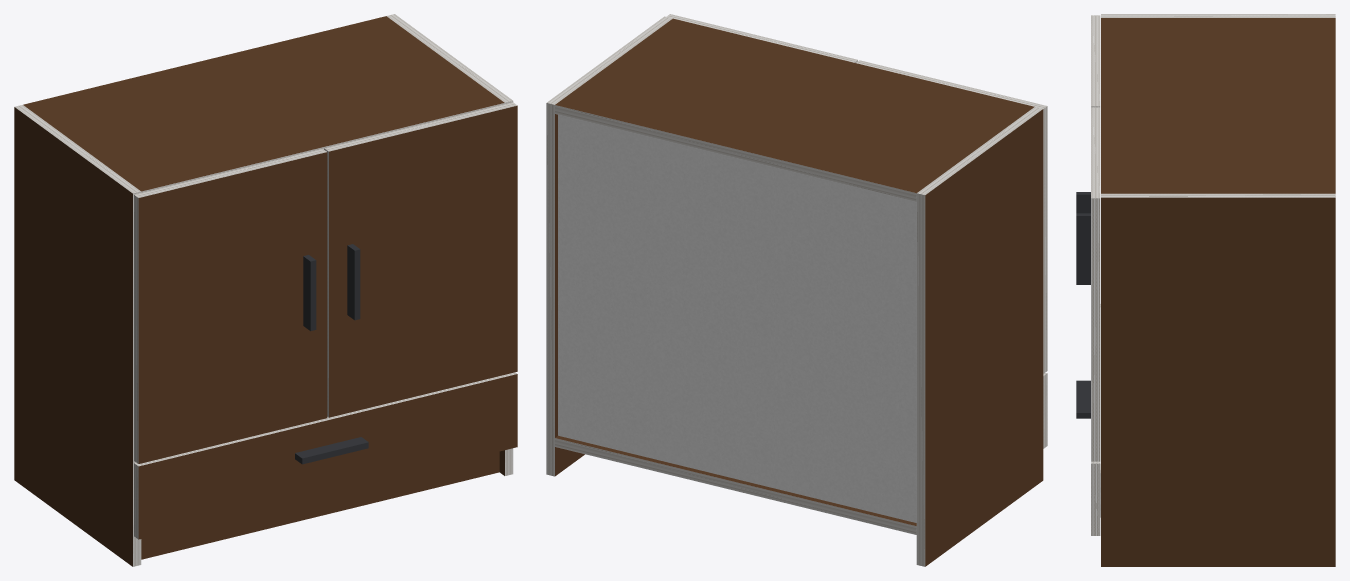
File: ATL-CAB-std.glb
3 renders of one model, left to right at view 1: azimuth 30°, elevation 25°; view 2: azimuth 150°, elevation 25°; view 3: azimuth 270°, elevation 25°, orthographic.
Visible parts, largest first — view 1: door-l:pbr, door-r:pbr, side-l:pbr, top:pbr, d1-front:pbr, plinth:pbr, pull, door-l:sheet:eyJtIjoicGx5Iiwic2lkZSI6ImVkZ2UtbG9uZyIsInNlZWQ, d1-front:sheet:eyJtIjoicGx5Iiwic2lkZSI6ImVkZ2UtbG9uZyIsInNlZ, side-l:sheet:eyJtIjoicGx5Iiwic2lkZSI6ImVkZ2UtZW5kIiwic2VlZCI, side-r:sheet:eyJtIjoicGx5Iiwic2lkZSI6ImVkZ2UtZW5kIiwic2VlZCI, door-l:sheet:eyJtIjoicGx5Iiwic2lkZSI6ImVkZ2UtZW5kIiwic2VlZCI (+2 smaller); view 2: back:sheet:eyJtIjoibWRmIiwic2lkZSI6ImZhY2UiLCJzZWVkIjoyLCJ0a, side-l:pbr, top:pbr, side-l:sheet:eyJtIjoicGx5Iiwic2lkZSI6ImVkZ2UtbG9uZyIsInNlZWQ, top:sheet:eyJtIjoicGx5Iiwic2lkZSI6ImVkZ2UtbG9uZyIsInNlZWQiOj, bottom:sheet:eyJtIjoicGx5Iiwic2lkZSI6ImVkZ2UtbG9uZyIsInNlZWQ, side-r:sheet:eyJtIjoicGx5Iiwic2lkZSI6ImVkZ2UtbG9uZyIsInNlZWQ, side-r:pbr, bottom:pbr, door-l:sheet:eyJtIjoicGx5Iiwic2lkZSI6ImVkZ2UtbG9uZyIsInNlZWQ, side-l:sheet:eyJtIjoicGx5Iiwic2lkZSI6ImVkZ2UtZW5kIiwic2VlZCI, side-r:sheet:eyJtIjoicGx5Iiwic2lkZSI6ImVkZ2UtZW5kIiwic2VlZCI (+2 smaller); view 3: side-r:pbr, top:pbr, door-r:sheet:eyJtIjoicGx5Iiwic2lkZSI6ImVkZ2UtbG9uZyIsInNlZWQ, pull, side-r:sheet:eyJtIjoicGx5Iiwic2lkZSI6ImVkZ2UtZW5kIiwic2VlZCI, side-l:sheet:eyJtIjoicGx5Iiwic2lkZSI6ImVkZ2UtZW5kIiwic2VlZCI, door-l:sheet:eyJtIjoicGx5Iiwic2lkZSI6ImVkZ2UtZW5kIiwic2VlZCI, door-r:sheet:eyJtIjoicGx5Iiwic2lkZSI6ImVkZ2UtZW5kIiwic2VlZCI, d1-front:sheet:eyJtIjoicGx5Iiwic2lkZSI6ImVkZ2UtZW5kIiwic2VlZ.
Part boxes in pixels (left/top/right/bottom): door-l:pbr: left=138, top=152, right=327, bottom=463; door-r:pbr: left=329, top=105, right=517, bottom=417; side-l:pbr: left=14, top=107, right=132, bottom=566; top:pbr: left=23, top=16, right=504, bottom=191; d1-front:pbr: left=138, top=374, right=517, bottom=539; plinth:pbr: left=141, top=451, right=499, bottom=559; pull: left=295, top=244, right=368, bottom=464; door-l:sheet:eyJtIjoicGx5Iiwic2lkZSI6ImVkZ2UtbG9uZyIsInNlZWQ: left=134, top=195, right=138, bottom=463; d1-front:sheet:eyJtIjoicGx5Iiwic2lkZSI6ImVkZ2UtbG9uZyIsInNlZ: left=134, top=372, right=517, bottom=466; side-l:sheet:eyJtIjoicGx5Iiwic2lkZSI6ImVkZ2UtZW5kIiwic2VlZCI: left=14, top=105, right=140, bottom=193; side-r:sheet:eyJtIjoicGx5Iiwic2lkZSI6ImVkZ2UtZW5kIiwic2VlZCI: left=386, top=14, right=512, bottom=102; door-l:sheet:eyJtIjoicGx5Iiwic2lkZSI6ImVkZ2UtZW5kIiwic2VlZCI: left=134, top=148, right=326, bottom=197; back:sheet:eyJtIjoibWRmIiwic2lkZSI6ImZhY2UiLCJzZWVkIjoyLCJ0a: left=558, top=114, right=916, bottom=522; side-l:pbr: left=925, top=109, right=1043, bottom=566; top:pbr: left=555, top=18, right=1034, bottom=193; side-l:sheet:eyJtIjoicGx5Iiwic2lkZSI6ImVkZ2UtbG9uZyIsInNlZWQ: left=916, top=193, right=925, bottom=566; top:sheet:eyJtIjoicGx5Iiwic2lkZSI6ImVkZ2UtbG9uZyIsInNlZWQiOj: left=555, top=105, right=916, bottom=201; bottom:sheet:eyJtIjoicGx5Iiwic2lkZSI6ImVkZ2UtbG9uZyIsInNlZWQ: left=555, top=438, right=916, bottom=534; side-r:sheet:eyJtIjoicGx5Iiwic2lkZSI6ImVkZ2UtbG9uZyIsInNlZWQ: left=546, top=103, right=554, bottom=476; side-r:pbr: left=555, top=114, right=584, bottom=476; bottom:pbr: left=555, top=435, right=916, bottom=525; door-l:sheet:eyJtIjoicGx5Iiwic2lkZSI6ImVkZ2UtbG9uZyIsInNlZWQ: left=1043, top=106, right=1047, bottom=373; side-l:sheet:eyJtIjoicGx5Iiwic2lkZSI6ImVkZ2UtZW5kIiwic2VlZCI: left=917, top=107, right=1042, bottom=194; side-r:sheet:eyJtIjoicGx5Iiwic2lkZSI6ImVkZ2UtZW5kIiwic2VlZCI: left=547, top=16, right=672, bottom=104; side-r:pbr: left=1101, top=197, right=1335, bottom=566; top:pbr: left=1101, top=18, right=1335, bottom=193; door-r:sheet:eyJtIjoicGx5Iiwic2lkZSI6ImVkZ2UtbG9uZyIsInNlZWQ: left=1091, top=198, right=1100, bottom=461; pull: left=1076, top=192, right=1090, bottom=418; side-r:sheet:eyJtIjoicGx5Iiwic2lkZSI6ImVkZ2UtZW5kIiwic2VlZCI: left=1101, top=193, right=1335, bottom=197; side-l:sheet:eyJtIjoicGx5Iiwic2lkZSI6ImVkZ2UtZW5kIiwic2VlZCI: left=1101, top=14, right=1335, bottom=17; door-l:sheet:eyJtIjoicGx5Iiwic2lkZSI6ImVkZ2UtZW5kIiwic2VlZCI: left=1091, top=15, right=1100, bottom=106; door-r:sheet:eyJtIjoicGx5Iiwic2lkZSI6ImVkZ2UtZW5kIiwic2VlZCI: left=1091, top=107, right=1100, bottom=198; d1-front:sheet:eyJtIjoicGx5Iiwic2lkZSI6ImVkZ2UtZW5kIiwic2VlZ: left=1091, top=463, right=1100, bottom=535.
Size of the model in its own units: 0.8 by 0.75 by 0.4769.
Materials: 55 (42 with a texture image).
